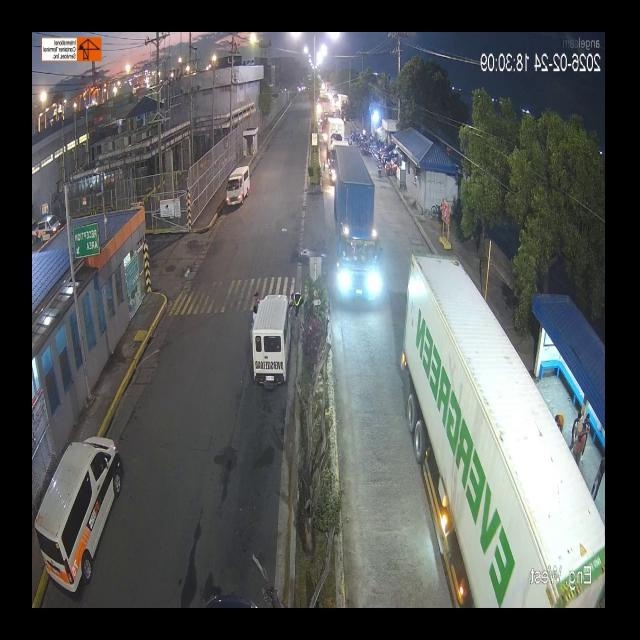car: (43, 410, 122, 586), (251, 298, 289, 388), (215, 160, 253, 212)
truck: (36, 244, 382, 614), (259, 144, 364, 315)
